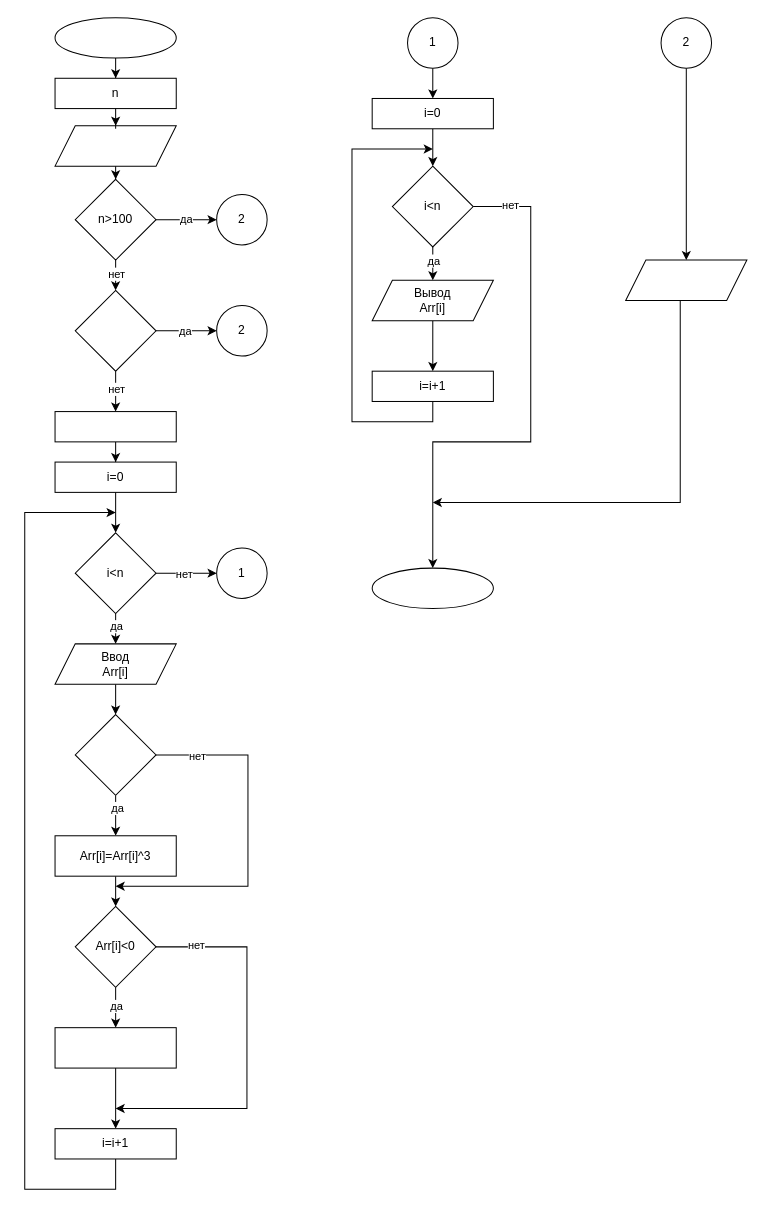
This 765x1215 diagram has some shape labels left out. Each missing label, with the centre of its shape:
"Arr[i]=Arr[i]^2" goes at point (115, 1047).
"Arr[i]>0" goes at point (115, 754).
"Arr[n]" goes at point (115, 426).
"n<0" goes at point (115, 330).
"Ввод n" goes at point (115, 145).
"Вывод Uncorrect" goes at point (686, 279).
"Конец" goes at point (432, 588).
"Начало" goes at point (115, 37).
